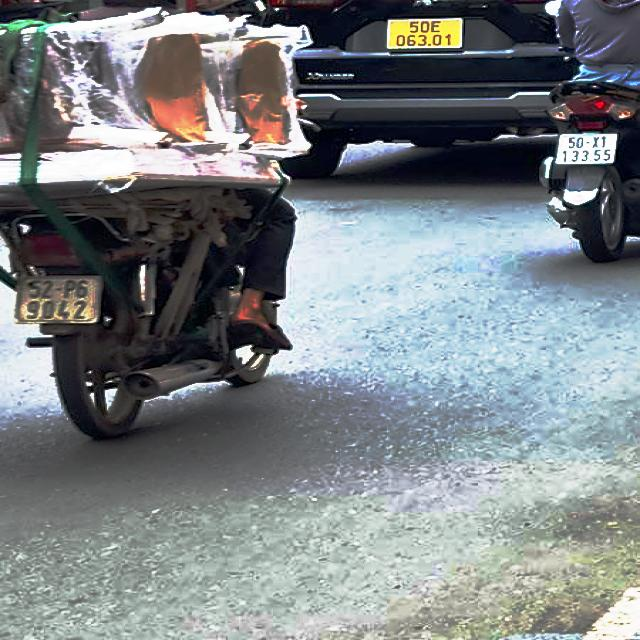license_plate: (13, 276, 105, 327)
